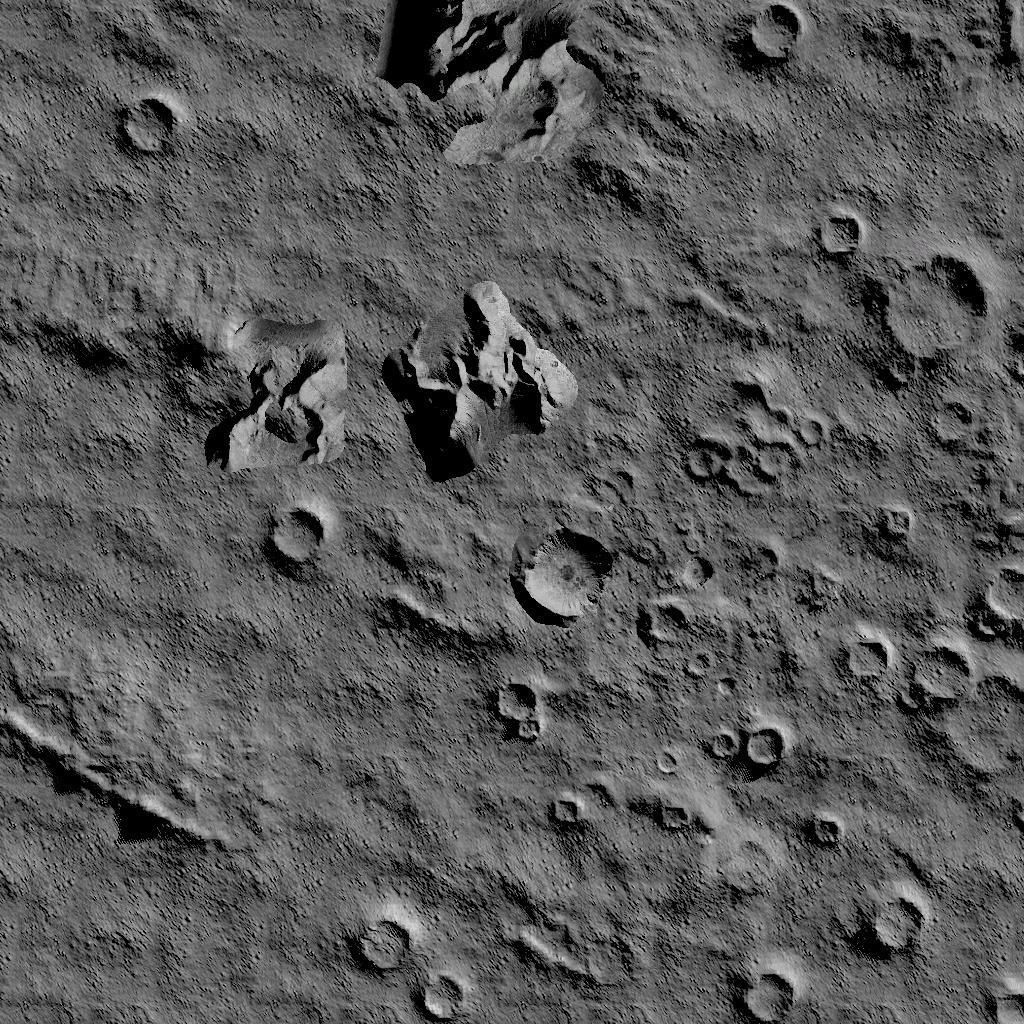Boulders: (0, 248, 353, 480), (370, 0, 666, 227), (379, 278, 577, 484), (0, 702, 224, 871), (360, 506, 488, 652)
Crater: (832, 560, 1024, 790), (875, 250, 1024, 452), (676, 366, 832, 506), (336, 902, 472, 1024), (512, 514, 624, 638), (636, 546, 720, 654), (720, 0, 812, 83), (846, 880, 934, 966), (726, 950, 817, 1024), (261, 494, 337, 582), (110, 90, 188, 170), (696, 716, 794, 772), (486, 674, 552, 754), (805, 202, 862, 272), (860, 490, 916, 542), (973, 968, 1024, 1024), (538, 790, 588, 842), (798, 807, 846, 855), (653, 794, 694, 834)
Plan surface: (3, 886, 302, 1024), (0, 502, 241, 670), (261, 671, 457, 858), (220, 0, 352, 210), (765, 100, 1024, 190)
